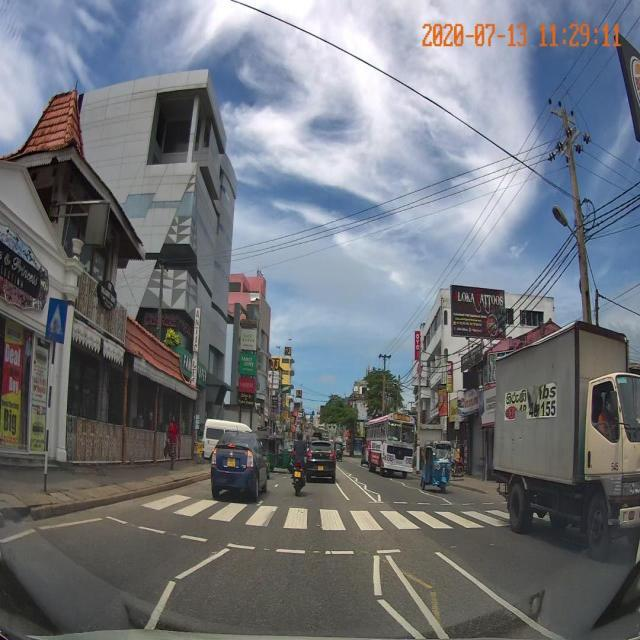Liniya 1: (433, 552, 568, 640), (385, 554, 451, 638), (376, 598, 429, 639), (173, 547, 231, 580), (144, 581, 177, 631), (346, 474, 379, 502), (38, 517, 103, 530), (373, 555, 384, 597), (335, 480, 351, 502), (378, 493, 382, 501)
Perehod: (137, 493, 512, 532)
